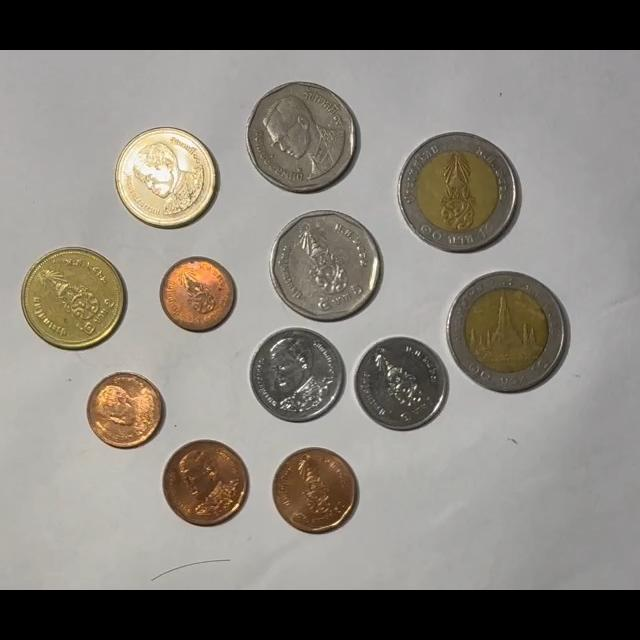1-baht: (353, 336, 449, 431), (249, 327, 344, 422)
10-baht: (447, 271, 568, 393), (397, 132, 520, 252)
2-baht: (115, 126, 218, 229), (22, 247, 125, 350)
25-satang: (87, 372, 164, 448), (159, 256, 235, 331)
5-baht: (246, 80, 360, 193), (269, 210, 383, 322)
50-satang: (162, 440, 249, 526), (272, 448, 358, 534)
